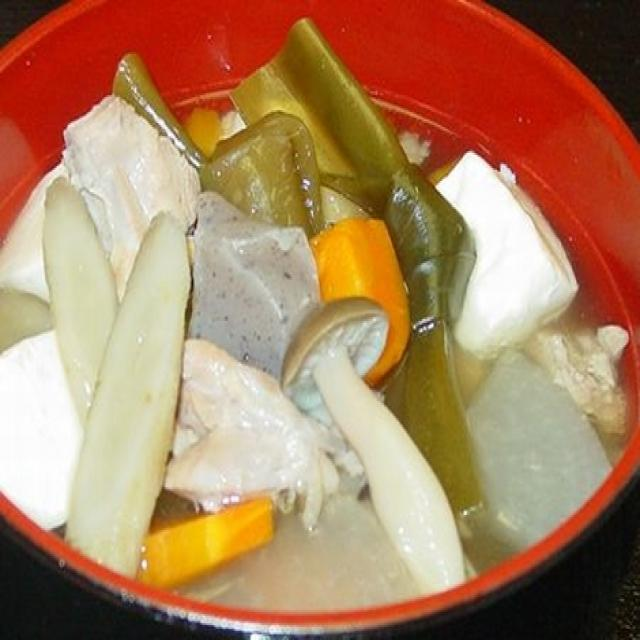蔬菜料理: (0, 0, 636, 631)
